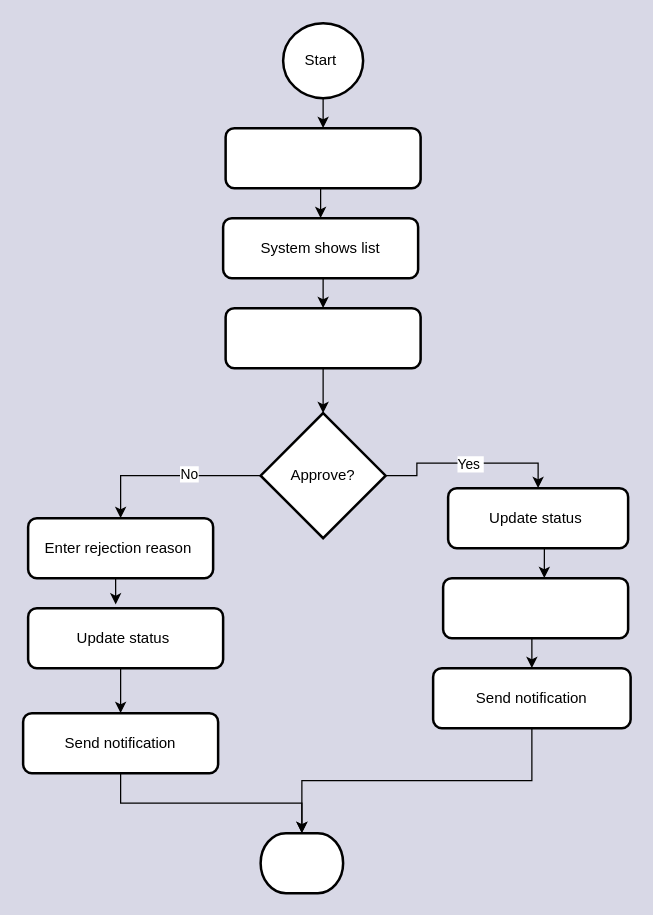
This 653x915 diagram has some shape labels left out. The shapes that lost their labels are listed below. From the top down, each one's centre as x and y in pixels, then its label:
At (322,157): "Admin opens application".
At (322,337): "Admin reviews application".
At (535,607): "Activate profile".
At (301,862): "End".
